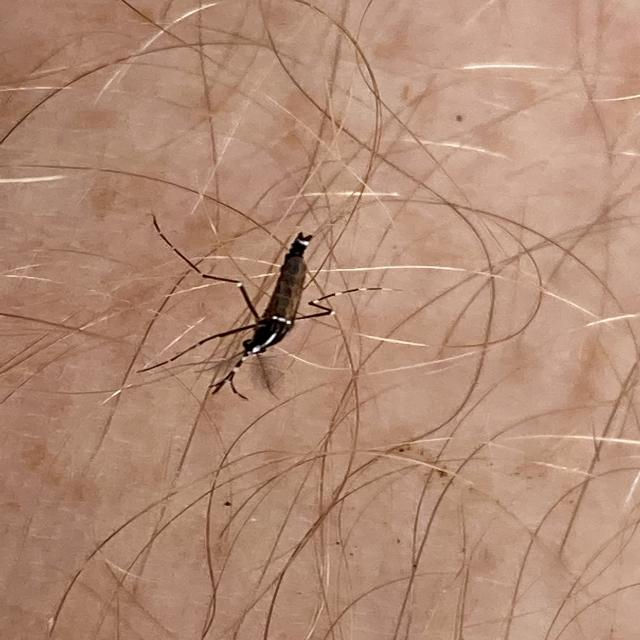albopictus: (89, 192, 514, 498)
